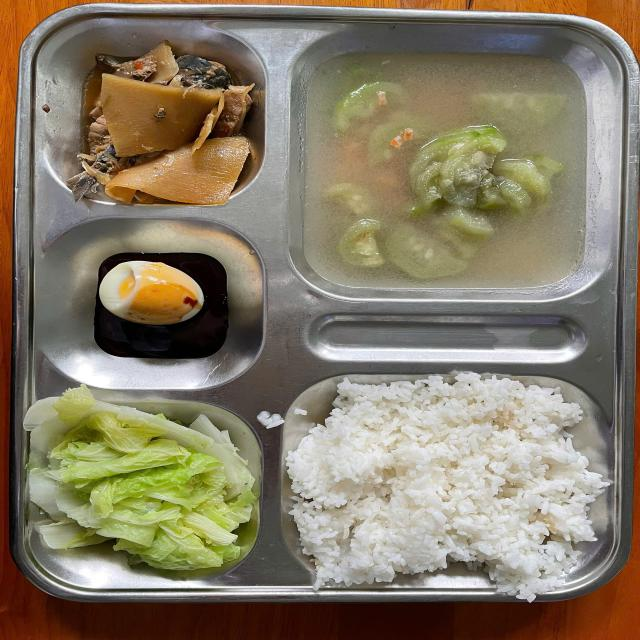cailuoc: (40, 396, 248, 579)
canhmuop: (323, 55, 581, 279)
salad: (317, 390, 586, 579)
thitkho: (65, 42, 256, 204)
trungxao: (92, 253, 218, 342)
